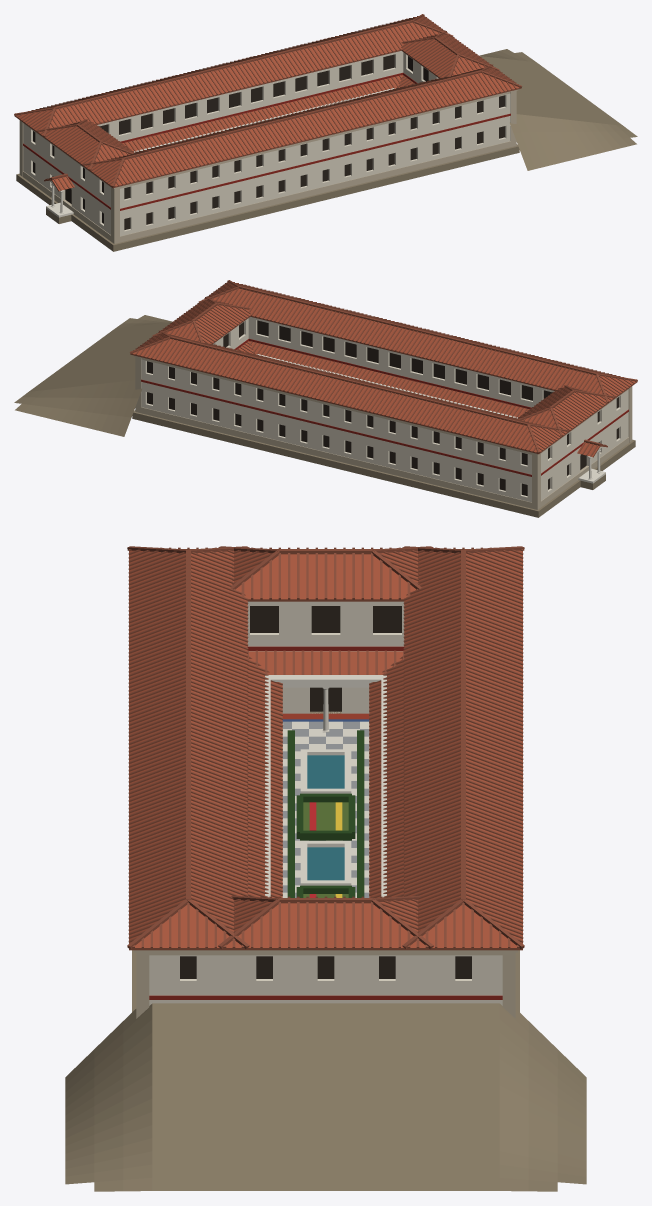
The model's file is rome_atrium_vestae.glb.
3 renders of one model, top to bottom at view 1: azimuth 30°, elevation 25°; view 2: azimuth 150°, elevation 25°; view 3: azimuth 270°, elevation 25°, orthographic. The views are drawn at different scales.
Parts seen in each view (by area): view 1: rome_atrium_vestae; view 2: rome_atrium_vestae; view 3: rome_atrium_vestae.
Part boxes in pixels (x1,y1,x2,y2): rome_atrium_vestae: [14, 14, 637, 251]; rome_atrium_vestae: [14, 280, 637, 517]; rome_atrium_vestae: [65, 546, 586, 1191].
Bounding box in the file's own units: 84.29 × 12.44 × 36.
